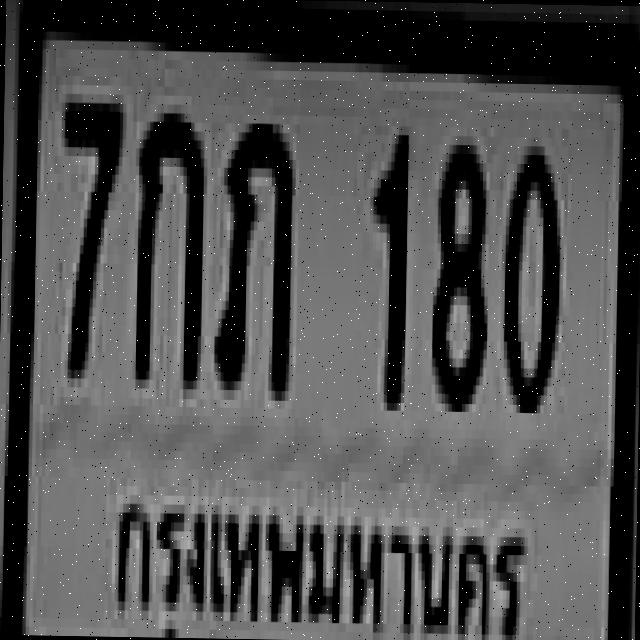0: (499, 136, 558, 404)
1: (366, 121, 405, 397)
10GorGai: (132, 104, 201, 380)
41PhorSamPhao: (211, 114, 291, 391)
7: (57, 93, 120, 370)
8: (428, 136, 487, 402)
Bangkok: (102, 461, 525, 640)
